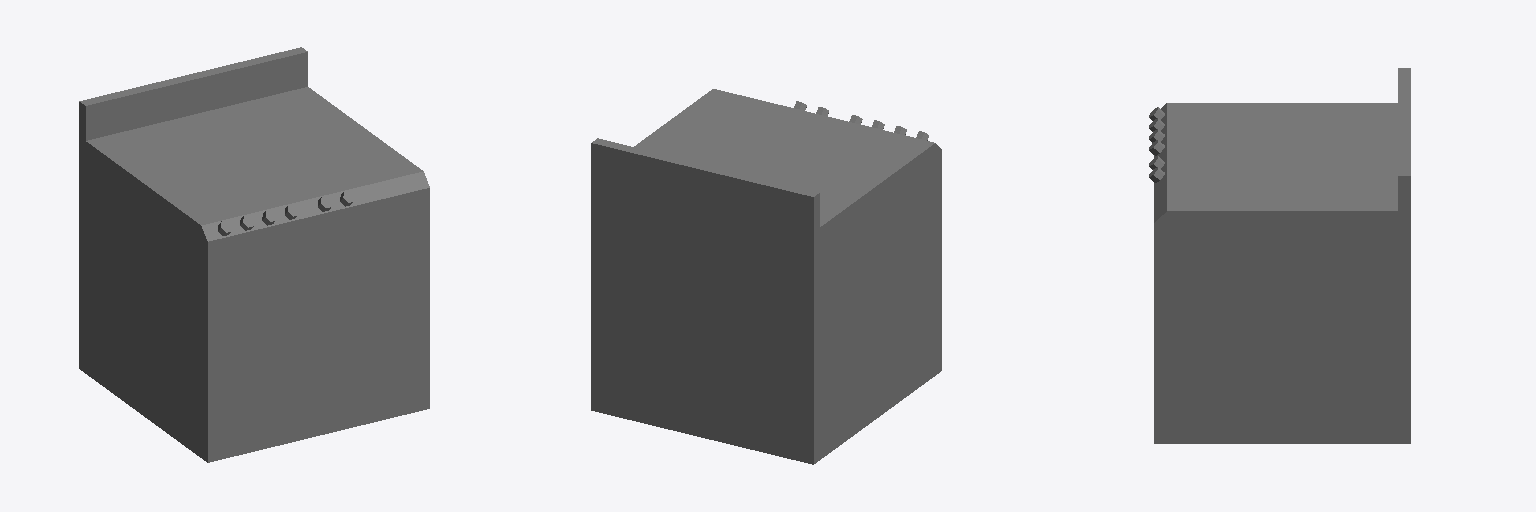
Rendered from oven.obj.
3 views of the same model, side by side, from view 1: azimuth 30°, elevation 25°; view 2: azimuth 150°, elevation 25°; view 3: azimuth 270°, elevation 25° (orthographic).
Bounding box in the file's own units: 2 × 2.3 × 2.04.